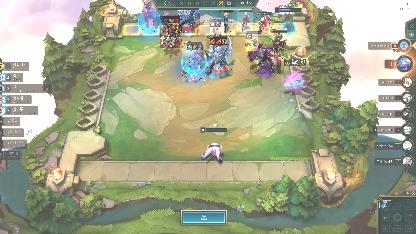1_bard: (246, 31, 258, 51)
1_diana: (237, 10, 253, 32)
1_jayce: (210, 19, 224, 35)
1_leesin: (218, 10, 232, 32)
1_olaf: (256, 12, 272, 30)
1_syfen: (250, 44, 284, 74)
2_daeja: (207, 34, 233, 76), (178, 11, 200, 33)
2_jayce: (160, 16, 180, 48)
3_sejuani: (182, 41, 206, 81)
3_zippy: (140, 0, 156, 34)
